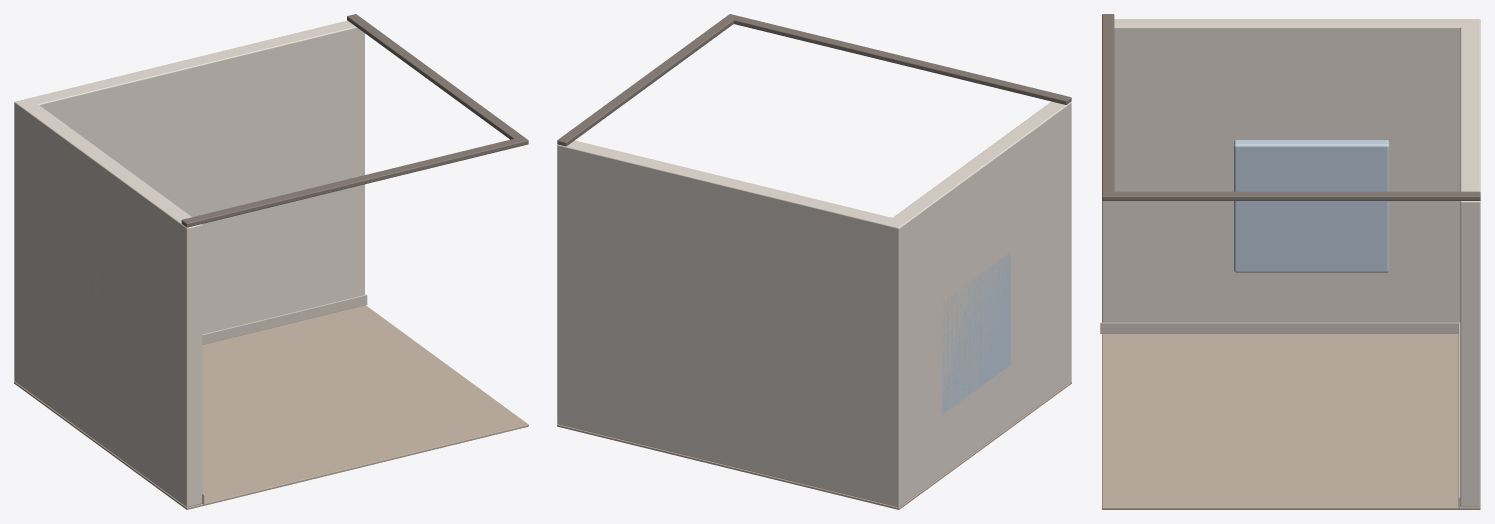
File: corner-shell-v1.glb
The picture shows the model from 3 angles, left to right: view 1: azimuth 30°, elevation 25°; view 2: azimuth 150°, elevation 25°; view 3: azimuth 270°, elevation 25°; orthographic projection. The views are drawn at different scales.
Visible parts, largest first — view 1: corner-shell-v1; view 2: corner-shell-v1; view 3: corner-shell-v1.
Part boxes in pixels (x1,y1,x2,y2): corner-shell-v1: (14,14,528,509); corner-shell-v1: (557,14,1071,509); corner-shell-v1: (1100,14,1480,509).
Bounding box in the file's own units: 3.21 × 2.56 × 2.81.
